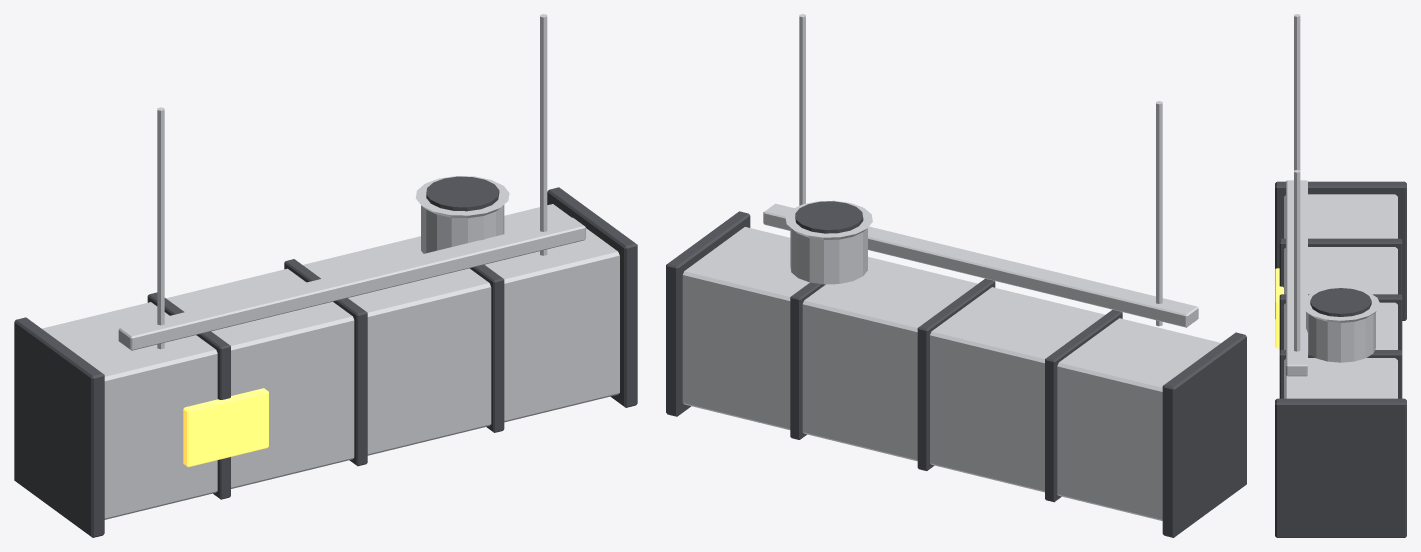
The model's file is cyberpunk-apartment-and-neon-block-ducting-run-0f93e4fa__37833.glb.
3 renders of one model, left to right at view 1: azimuth 30°, elevation 25°; view 2: azimuth 150°, elevation 25°; view 3: azimuth 270°, elevation 25°, orthographic. The views are drawn at different scales.
Visible parts, largest first — view 1: ducting-run; view 2: ducting-run; view 3: ducting-run.
Part boxes in pixels (x1,y1,x2,y2): ducting-run: (14,14,637,537); ducting-run: (666,14,1246,537); ducting-run: (1275,14,1406,537).
Size of the model in its own units: 1.2 by 0.84 by 0.3.
